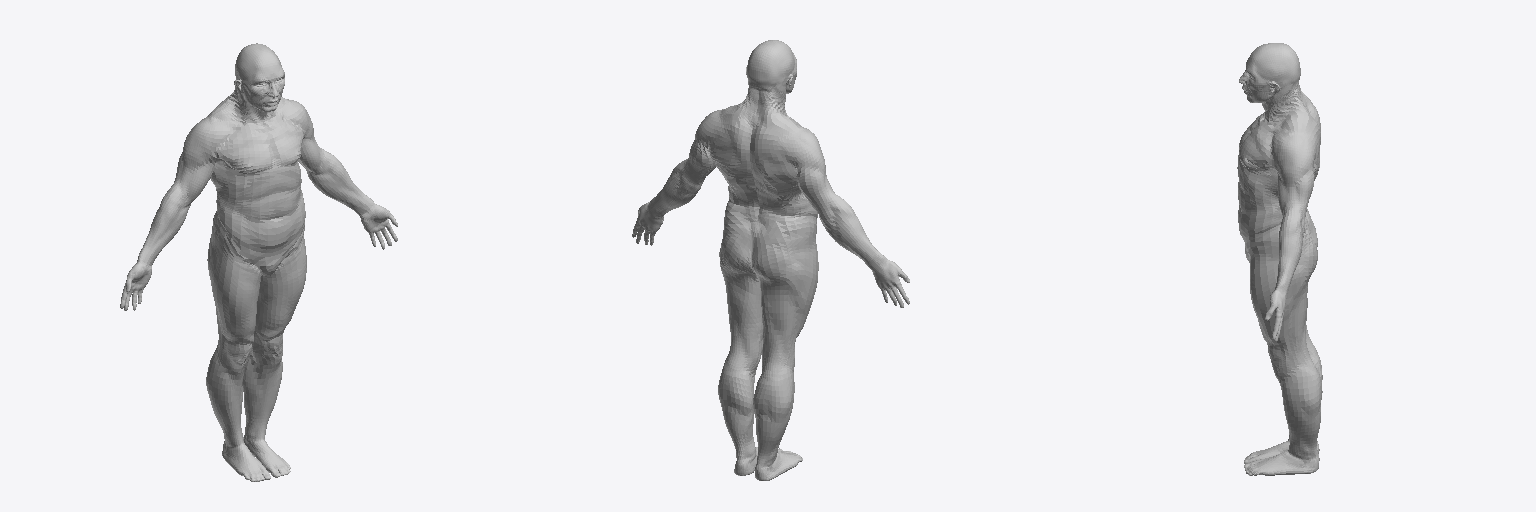
File: DemoSoldier.OBJ
3 renders of one model, left to right at view 1: azimuth 30°, elevation 25°; view 2: azimuth 150°, elevation 25°; view 3: azimuth 270°, elevation 25°, orthographic.
Parts seen in each view (by area): view 1: DemoSoldier; view 2: DemoSoldier; view 3: DemoSoldier.
Boxes of the visible parts, box(x1,y1,x2,y2) form: DemoSoldier: box(120, 43, 397, 481); DemoSoldier: box(632, 40, 909, 480); DemoSoldier: box(1237, 43, 1322, 475).
Size of the model in its own units: 0.7825 by 1.14 by 0.2081.